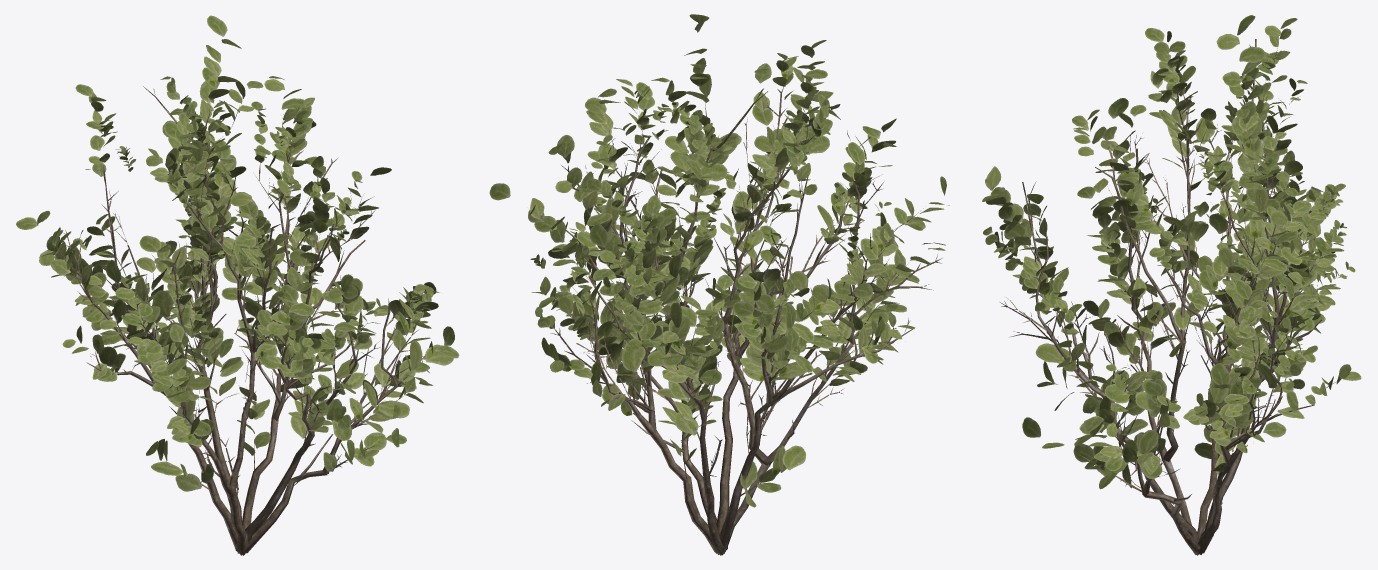
File: struik_groot.gltf
3 renders of one model, left to right at view 1: azimuth 30°, elevation 25°; view 2: azimuth 150°, elevation 25°; view 3: azimuth 270°, elevation 25°, orthographic. The views are drawn at different scales.
Visible parts, largest first — view 1: searsia_lucida_d_LOD0; view 2: searsia_lucida_d_LOD0; view 3: searsia_lucida_d_LOD0.
Boxes of the visible parts, box(x1,y1,x2,y2) form: searsia_lucida_d_LOD0: box(16, 15, 459, 555); searsia_lucida_d_LOD0: box(489, 14, 949, 555); searsia_lucida_d_LOD0: box(982, 15, 1361, 555).
Bounding box in the file's own units: 1.11 × 1.43 × 0.9251.
Materials: 2 (2 with a texture image).
